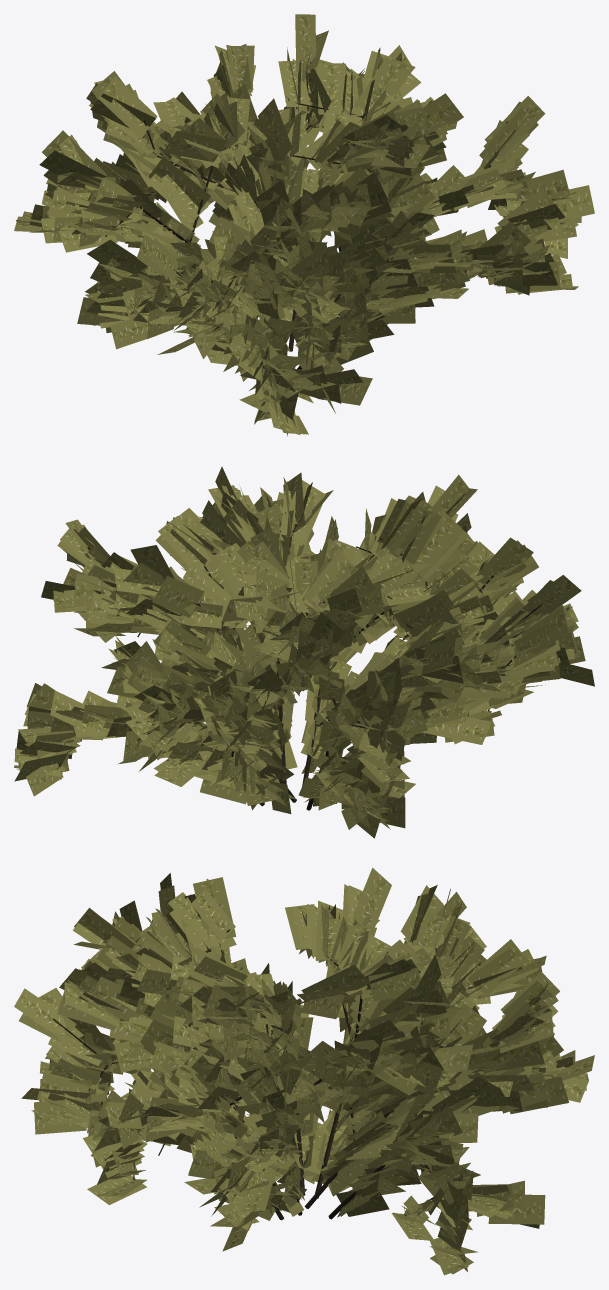
Rendered from thorn_scrub_v02_LOD1.fbx.
The picture shows the model from 3 angles, top to bottom: view 1: azimuth 30°, elevation 25°; view 2: azimuth 150°, elevation 25°; view 3: azimuth 270°, elevation 25°; orthographic projection. The views are drawn at different scales.
Parts seen in each view (by area): view 1: thorn_scrub_v02_LOD1; view 2: thorn_scrub_v02_LOD1; view 3: thorn_scrub_v02_LOD1.
Boxes of the visible parts, bbox=[...] form: thorn_scrub_v02_LOD1: bbox=[14, 14, 594, 436]; thorn_scrub_v02_LOD1: bbox=[14, 466, 594, 838]; thorn_scrub_v02_LOD1: bbox=[14, 867, 594, 1275].
Size of the model in its own units: 364 by 200 by 358.
